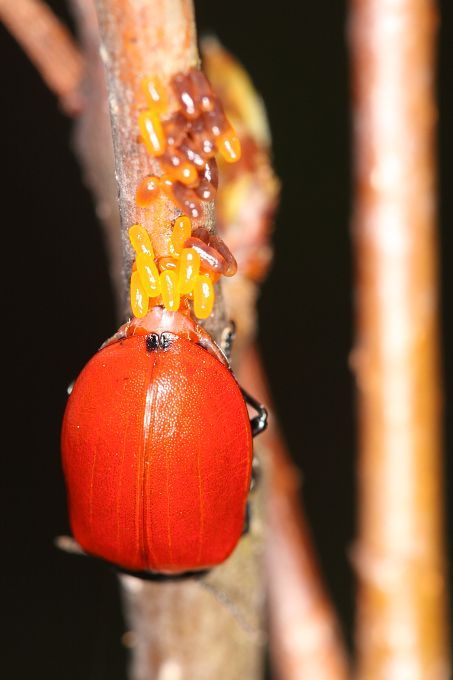Chrysomela_populi: (52, 300, 266, 581)
